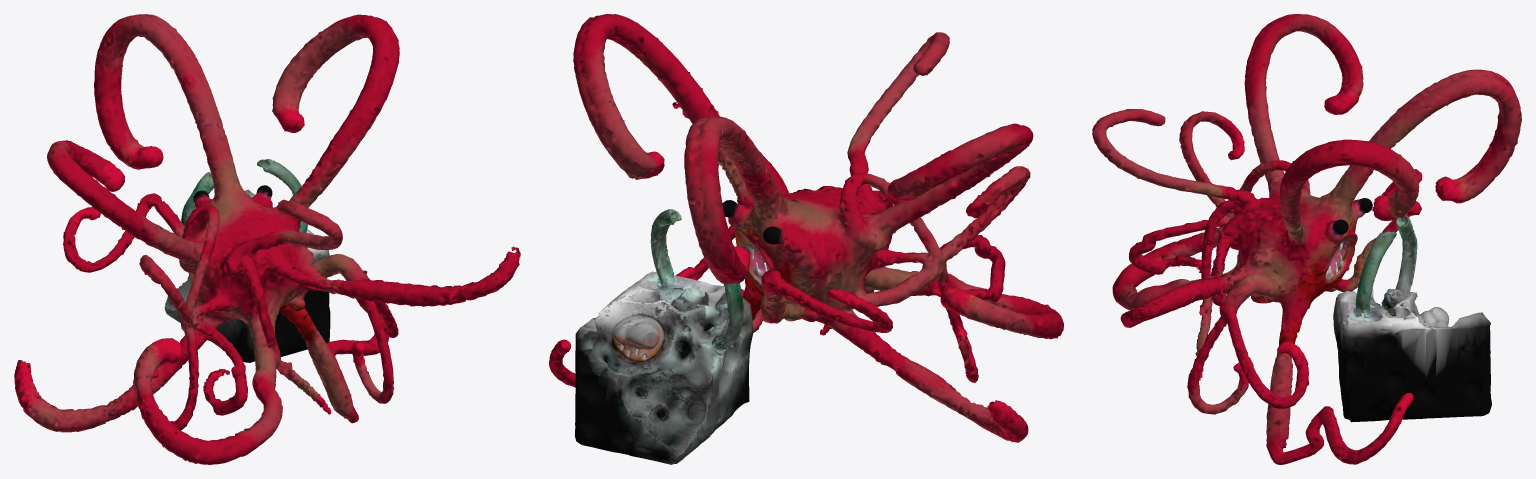
Rendered from squid.fbx.
The picture shows the model from 3 angles, left to right: view 1: azimuth 30°, elevation 25°; view 2: azimuth 150°, elevation 25°; view 3: azimuth 270°, elevation 25°; orthographic projection. The views are drawn at different scales.
Visible parts, largest first — view 1: B_SculptureWorld; view 2: B_SculptureWorld; view 3: B_SculptureWorld.
Part boxes in pixels (x1=…): B_SculptureWorld: x1=14, y1=14, x2=520, y2=464; B_SculptureWorld: x1=549, y1=14, x2=1063, y2=464; B_SculptureWorld: x1=1092, y1=14, x2=1521, y2=464.
Size of the model in its own units: 1238 by 1061 by 1182.
